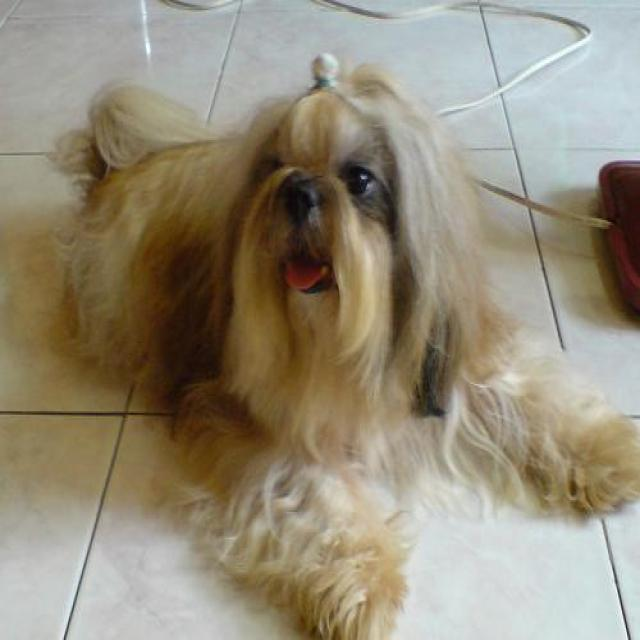shih_tzu: (45, 51, 635, 638)
